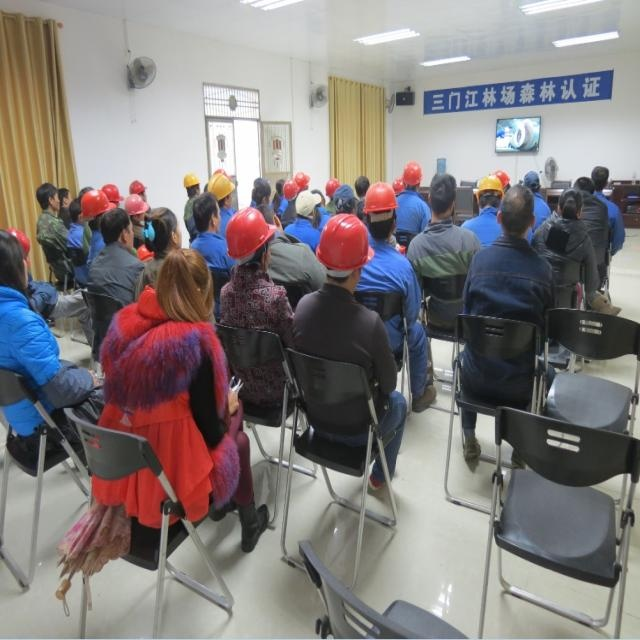Con_Casco: (314, 214, 375, 290), (227, 206, 280, 270)
